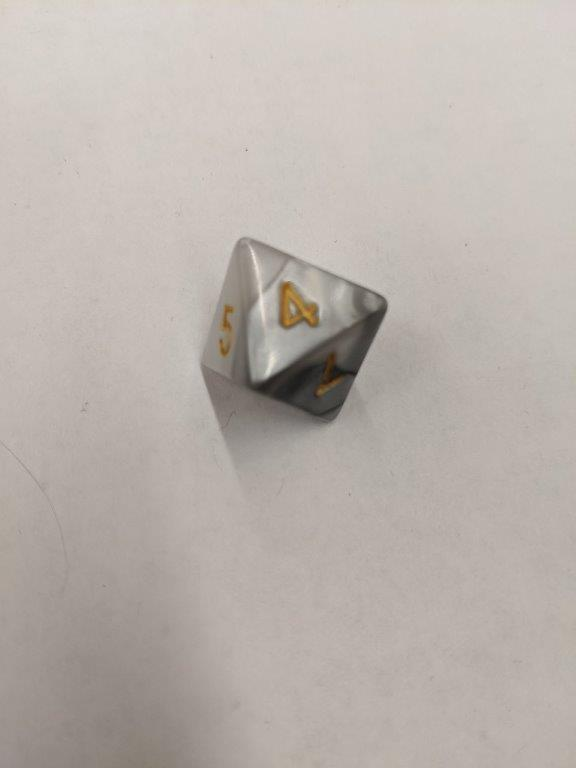d8-4: (200, 238, 392, 422)
